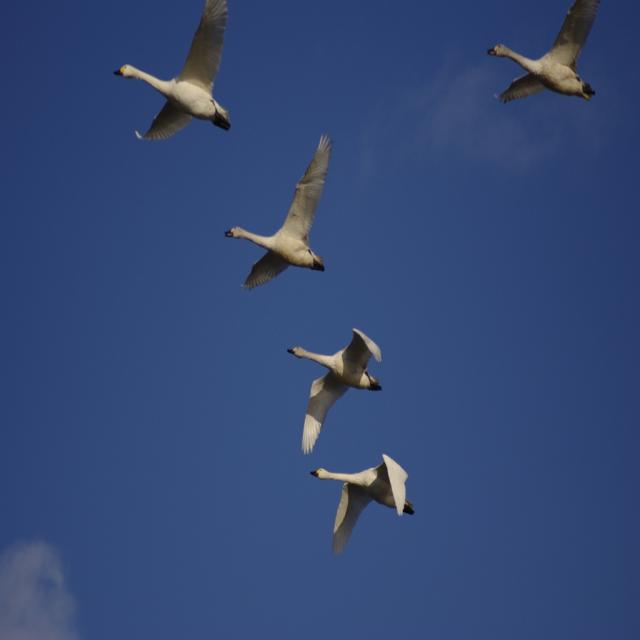bird: (108, 5, 237, 138), (226, 135, 332, 291), (284, 328, 386, 457), (486, 4, 614, 104), (308, 455, 418, 554)
